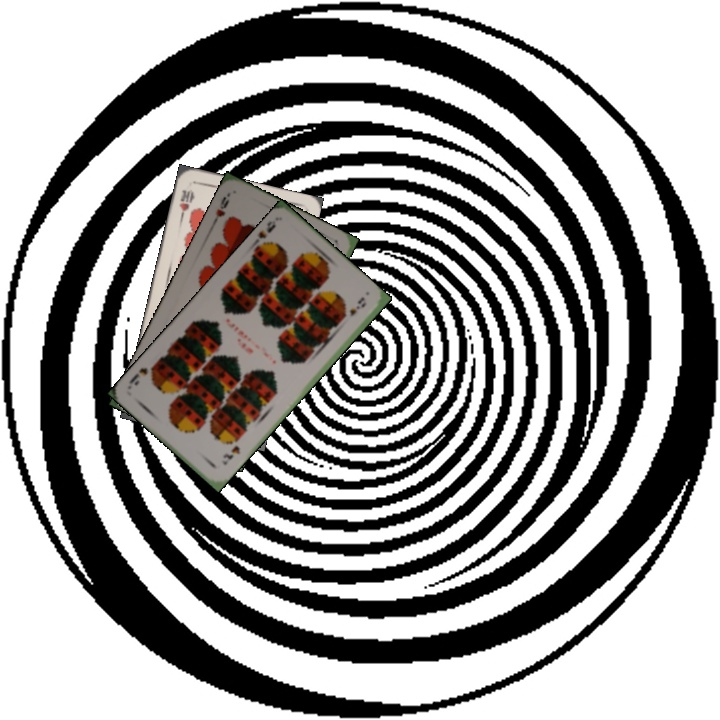H10: (175, 185, 196, 222)
H9: (208, 190, 232, 228)
S9: (248, 216, 279, 250), (218, 441, 243, 468)
